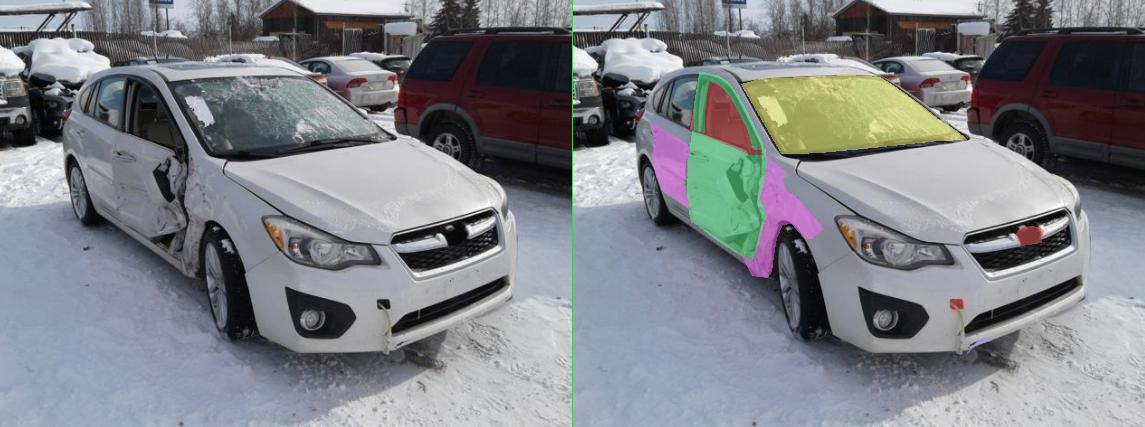Broken part: (228, 131, 386, 260), (252, 72, 380, 149), (242, 74, 270, 132)
Cracked: (336, 75, 787, 153)
Dent: (302, 149, 500, 277), (226, 145, 320, 235), (154, 123, 232, 208)
Missing part: (234, 76, 372, 154), (320, 127, 378, 154), (883, 226, 941, 245), (755, 298, 783, 311)
Scratch: (787, 337, 837, 354)
